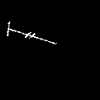treble_crochet: (7, 22, 54, 43)
